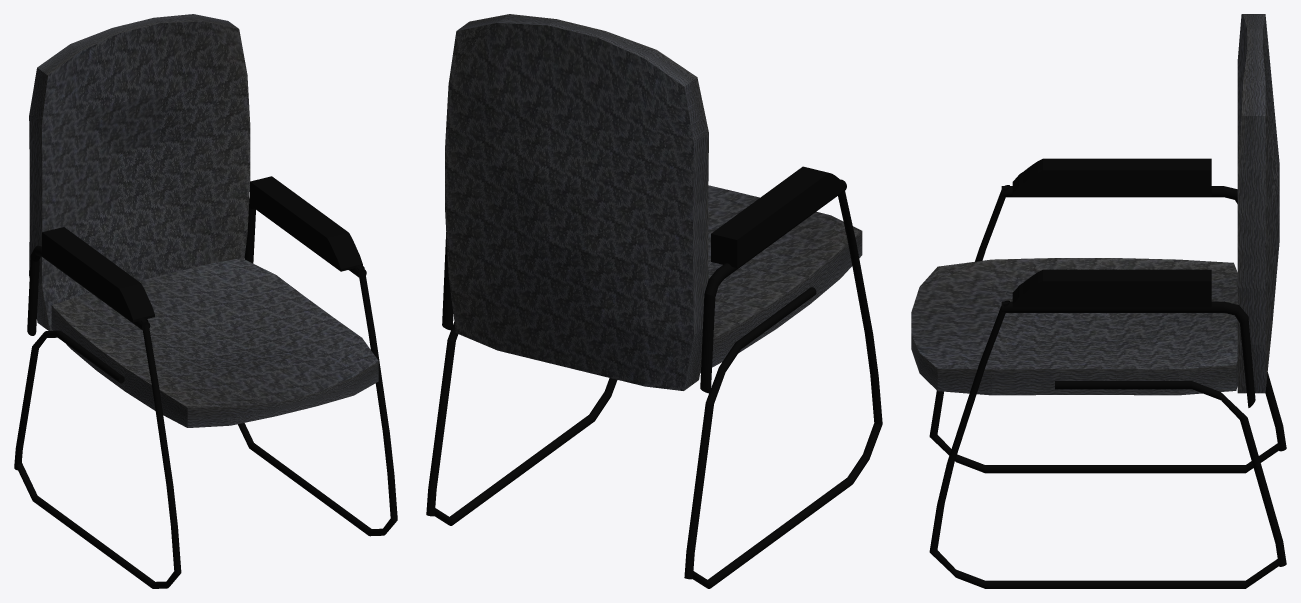
Rendered from bluechair.dae.
3 renders of one model, left to right at view 1: azimuth 30°, elevation 25°; view 2: azimuth 150°, elevation 25°; view 3: azimuth 270°, elevation 25°, orthographic. The views are drawn at different scales.
Parts seen in each view (by area): view 1: node; view 2: node; view 3: node.
Part boxes in pixels (box(x1,y1,x2,y2)): node: box(14, 14, 397, 588); node: box(426, 14, 882, 588); node: box(911, 14, 1286, 588).
Size of the model in its own units: 0.4383 by 0.8153 by 0.5666.
Materials: 2 (2 with a texture image).
